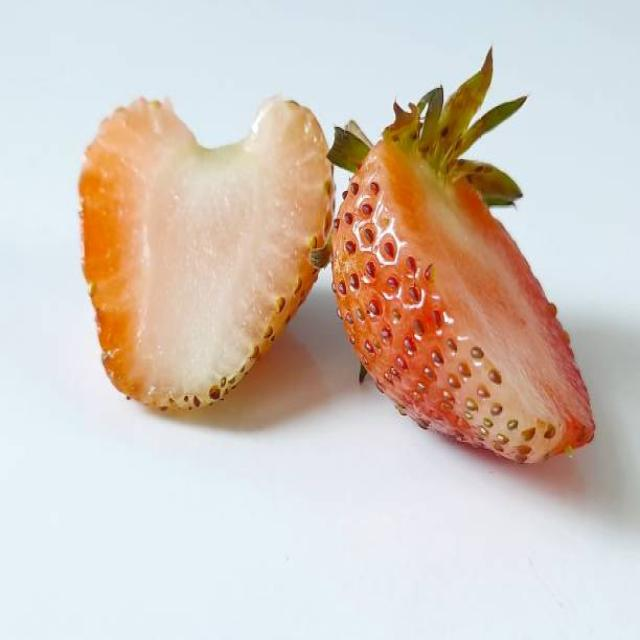Healthy Fruit: (332, 137, 594, 465), (79, 98, 332, 409)
